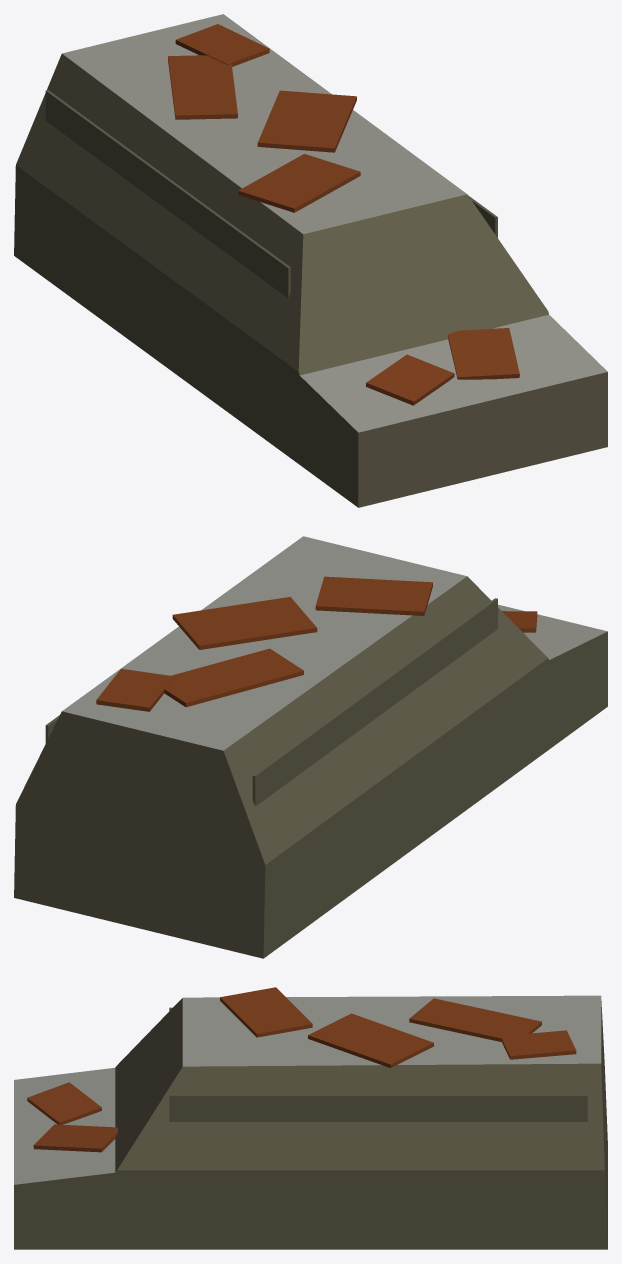
The model's file is SM_CocheCivil_Todoterreno_v4_LOD1.fbx.
3 views of the same model, one above another, from view 1: azimuth 30°, elevation 25°; view 2: azimuth 150°, elevation 25°; view 3: azimuth 270°, elevation 25° (orthographic). The views are drawn at different scales.
Visible parts, largest first — view 1: SM_coche_civil_v19_LOD1; view 2: SM_coche_civil_v19_LOD1; view 3: SM_coche_civil_v19_LOD1.
Part boxes in pixels (left/top/right/bottom): SM_coche_civil_v19_LOD1: left=14, top=14, right=607, bottom=507; SM_coche_civil_v19_LOD1: left=14, top=536, right=607, bottom=958; SM_coche_civil_v19_LOD1: left=14, top=987, right=607, bottom=1249.
Size of the model in its own units: 1.84 by 1.41 by 4.4.
